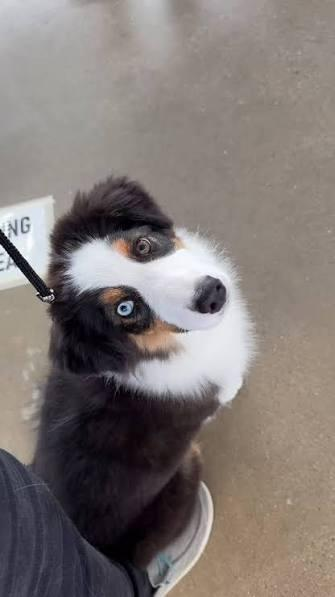adult_dog: (28, 174, 253, 555)
